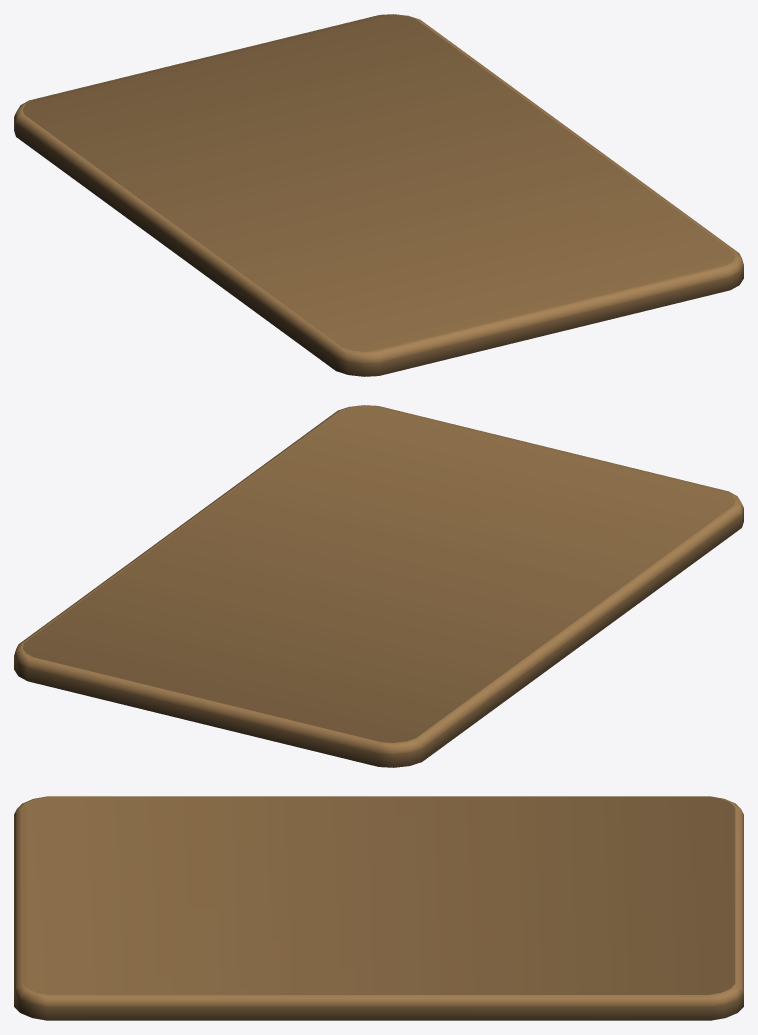
The picture shows the model from 3 angles, top to bottom: view 1: azimuth 30°, elevation 25°; view 2: azimuth 150°, elevation 25°; view 3: azimuth 270°, elevation 25°; orthographic projection. The views are drawn at different scales.
Visible parts, largest first — view 1: Base_30x20; view 2: Base_30x20; view 3: Base_30x20.
Part boxes in pixels (left/top/right/bottom): Base_30x20: left=14, top=14, right=743, bottom=376; Base_30x20: left=14, top=405, right=743, bottom=767; Base_30x20: left=14, top=796, right=743, bottom=1020.
Size of the model in its own units: 20 by 1 by 30.
